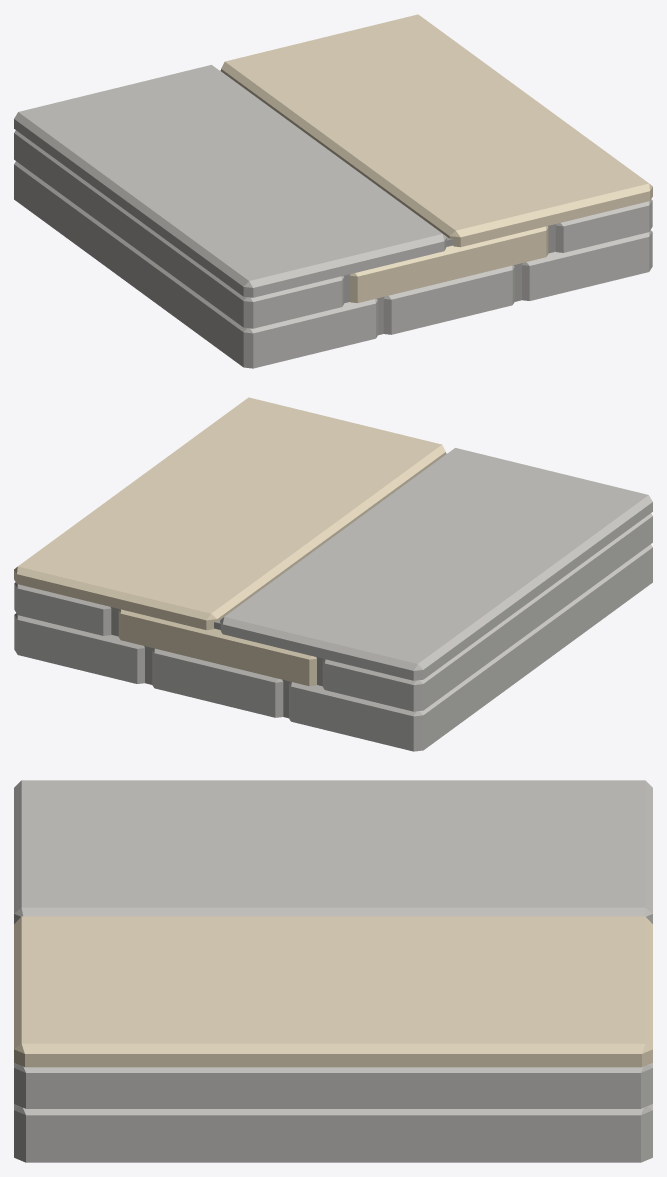
Rendered from tile_terrace_wall.glb.
3 views of the same model, one above another, from view 1: azimuth 30°, elevation 25°; view 2: azimuth 150°, elevation 25°; view 3: azimuth 270°, elevation 25° (orthographic). The views are drawn at different scales.
Parts seen in each view (by area): view 1: tile_terrace_wall; view 2: tile_terrace_wall; view 3: tile_terrace_wall.
Boxes of the visible parts, <box> form: tile_terrace_wall: <box>14,14,652,368</box>; tile_terrace_wall: <box>14,397,652,751</box>; tile_terrace_wall: <box>14,780,652,1162</box>.
Bounding box in the file's own units: 1 × 0.2 × 1.
